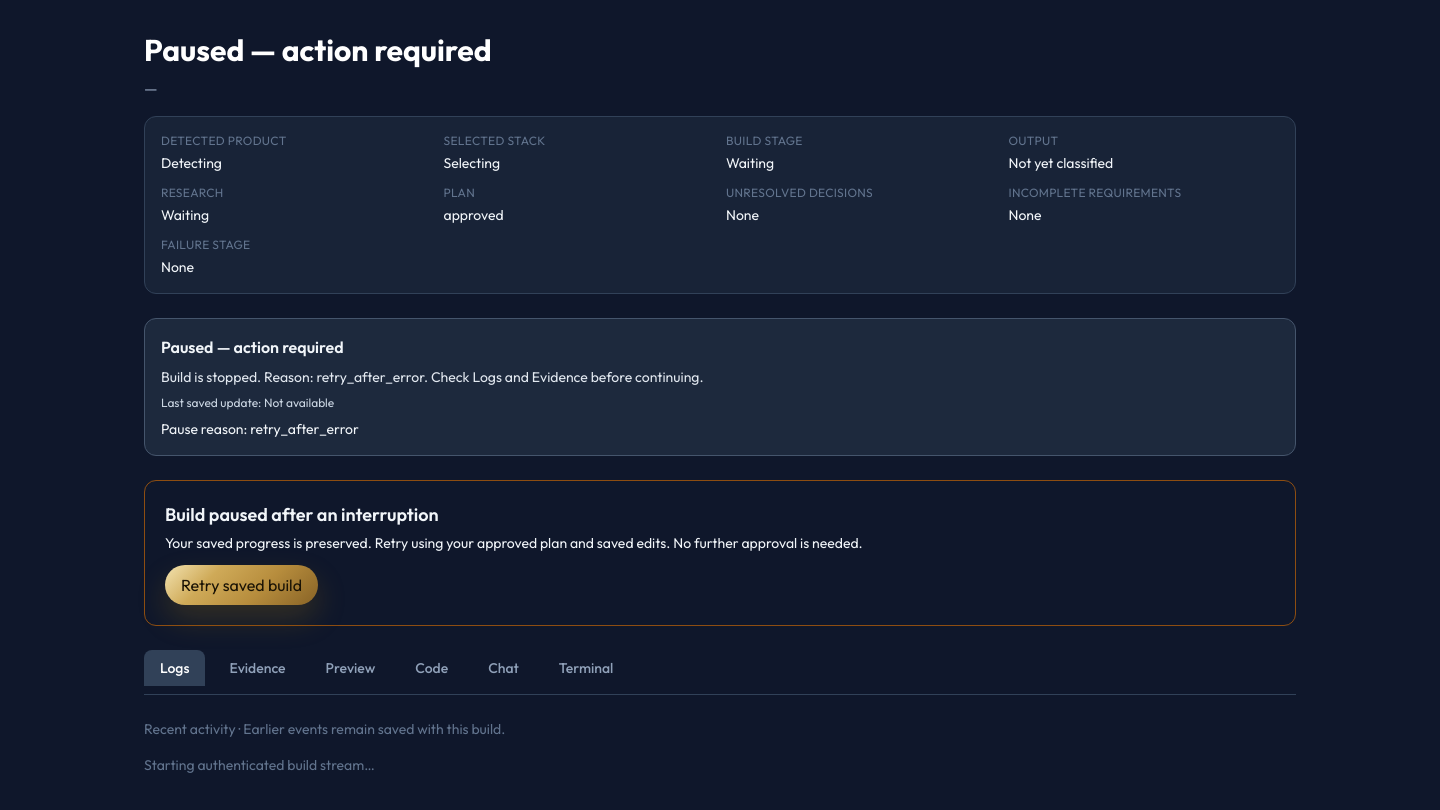
Test: saved build recovery screen › explains that saved working files need validation rather than loading a blocked iframe
Click the button "preview": x=350, y=668 [310,650,391,686]
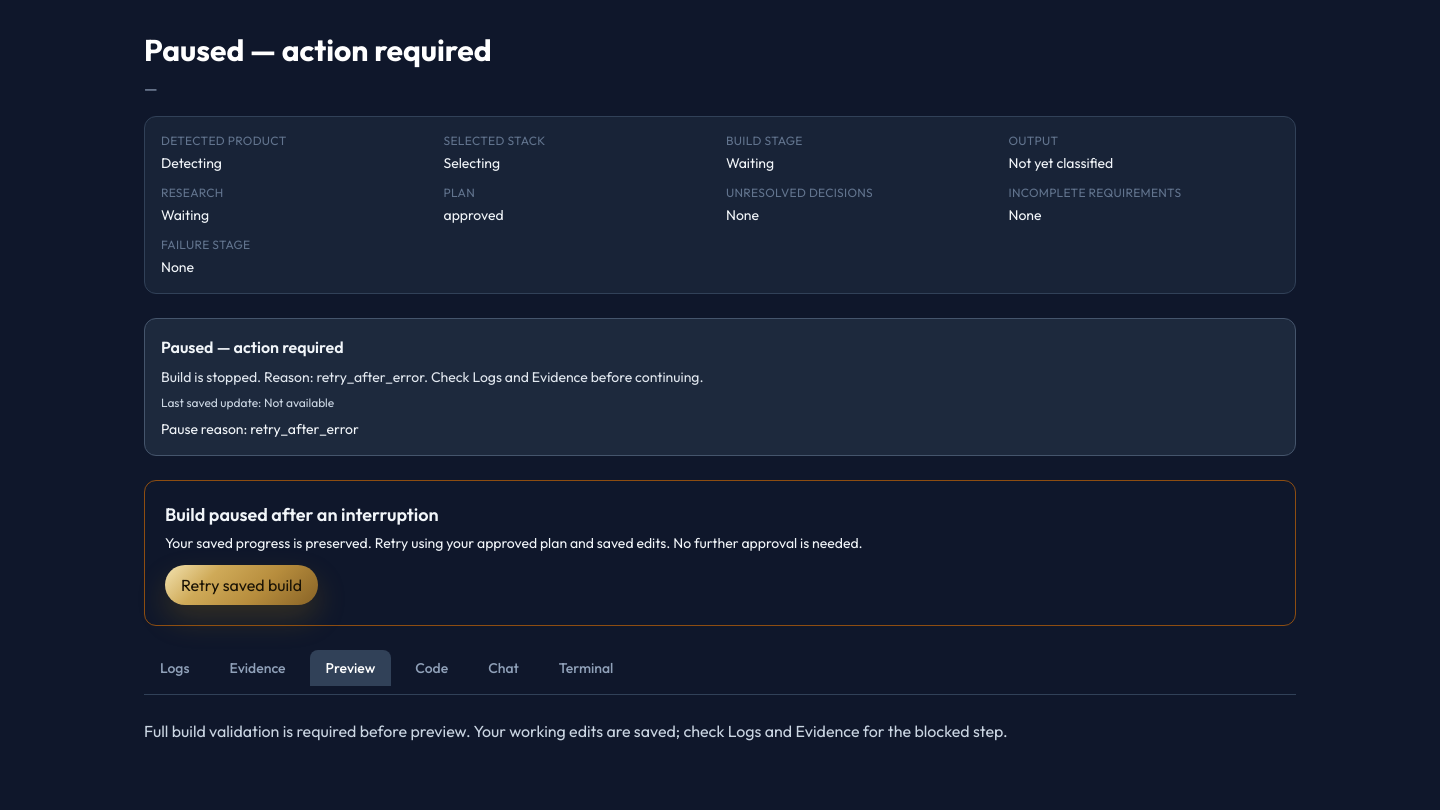
Check: the text "Full build validation is required before preview. Your working edits are saved; check Logs and Evidence for the blocked " is shown, box [144,721,1008,741]
